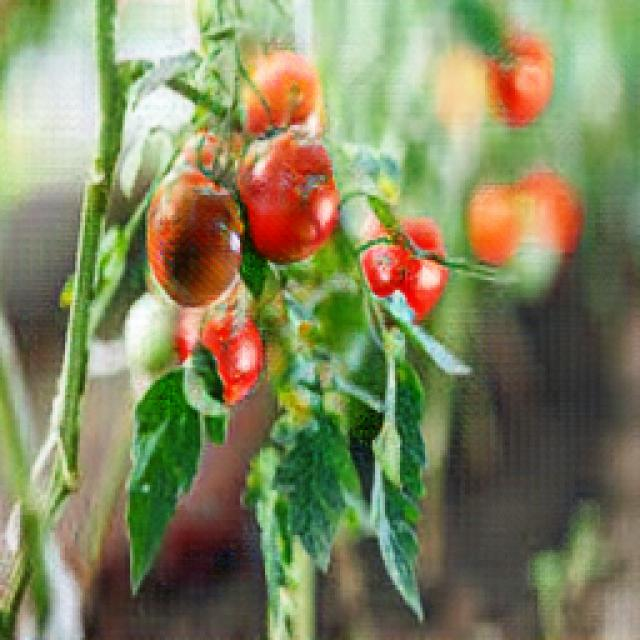overripe tomato: (144, 170, 248, 311), (238, 132, 340, 260)
